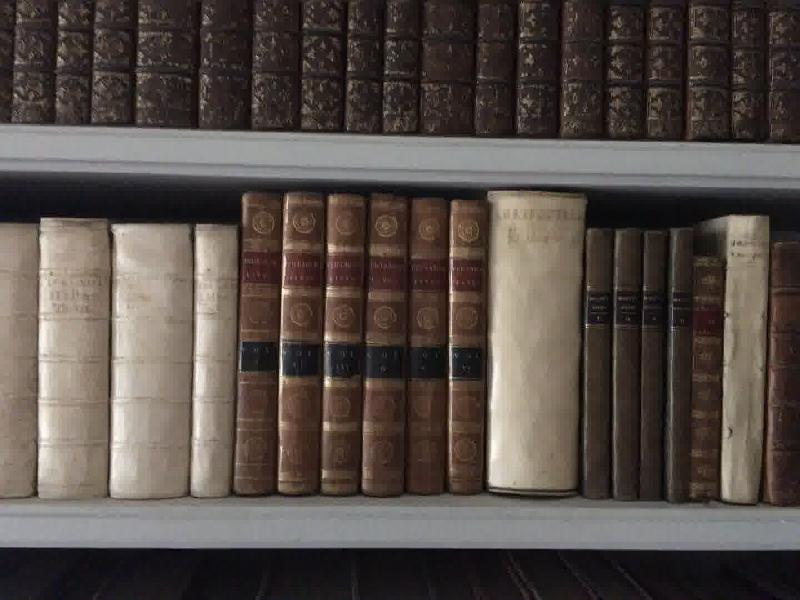Kk4-14: (481, 187, 587, 506)
Kk4-15_16: (582, 222, 641, 513)
Kk4-17_18: (638, 214, 695, 518)
Kk4-19: (687, 249, 728, 511)
Kk4-20: (715, 208, 771, 512)
Kk4-21_22: (770, 234, 800, 510)
Kk4-3_7: (1, 202, 236, 520)
Kk4-8_13: (230, 188, 495, 503)
